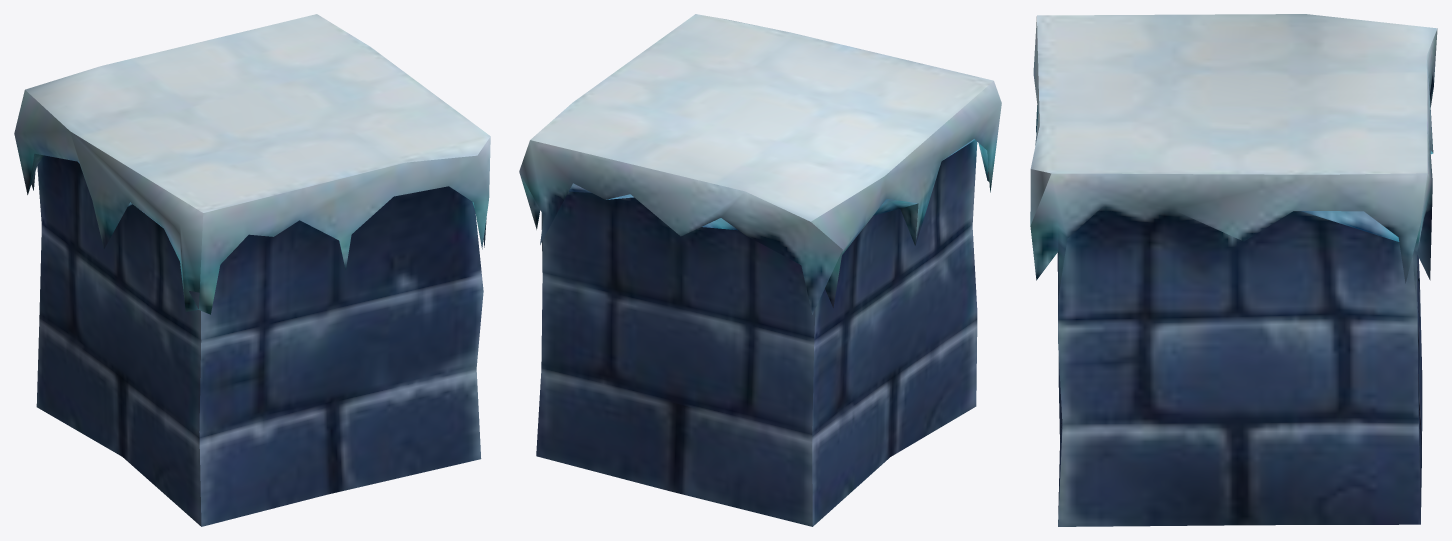
File: b_givre_mur_1_lo.glb
3 renders of one model, left to right at view 1: azimuth 30°, elevation 25°; view 2: azimuth 150°, elevation 25°; view 3: azimuth 270°, elevation 25°, orthographic. The views are drawn at different scales.
Parts seen in each view (by area): view 1: geometry_0; view 2: geometry_0; view 3: geometry_0.
Boxes of the visible parts, x1,y1,x2,y2 form: geometry_0: (14, 14, 490, 526); geometry_0: (519, 14, 1001, 526); geometry_0: (1030, 14, 1437, 526).
Size of the model in its own units: 1 by 0.9595 by 0.9895.
Materials: 1 (1 with a texture image).
